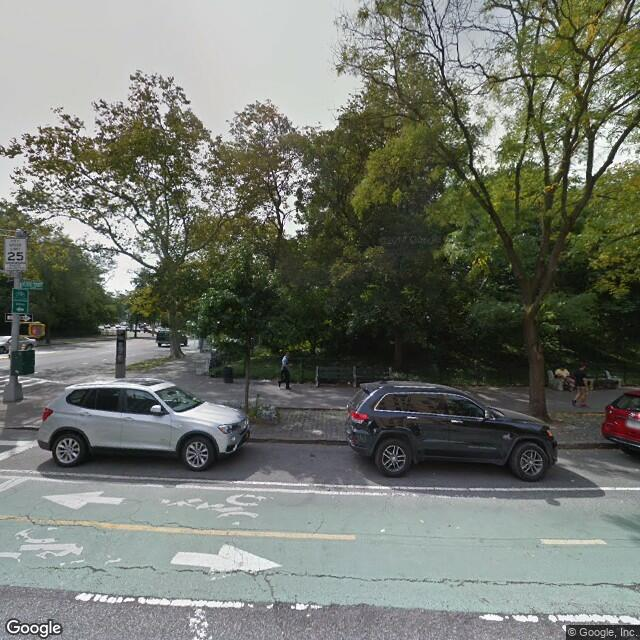litter: (312, 429, 323, 434)
